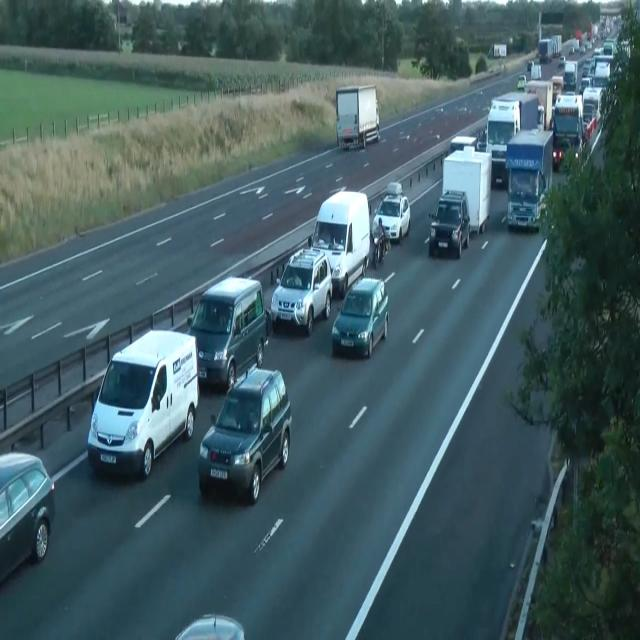bus: (0, 451, 56, 584), (175, 613, 245, 639), (552, 135, 571, 173), (450, 135, 478, 154), (385, 182, 403, 196), (476, 127, 486, 151), (517, 74, 526, 90), (558, 55, 566, 67), (527, 60, 533, 70), (568, 44, 574, 54), (580, 44, 586, 54)
car: (504, 127, 554, 231)
jeep: (87, 328, 199, 479), (197, 364, 291, 504), (186, 275, 270, 390), (270, 246, 332, 336), (331, 276, 389, 358), (428, 188, 470, 258), (372, 191, 410, 244)
lorry: (371, 228, 389, 270)
minibus: (308, 189, 370, 298), (485, 90, 543, 186), (442, 146, 492, 234), (336, 84, 380, 150), (552, 91, 584, 172), (524, 79, 552, 130), (581, 86, 603, 140), (563, 60, 577, 92), (538, 38, 554, 62), (487, 42, 507, 58), (530, 60, 542, 80), (552, 35, 562, 57)
